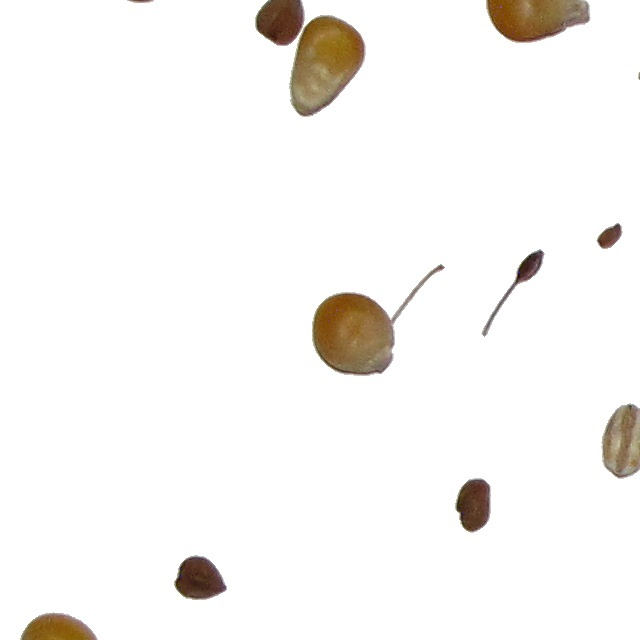buckwheat: (173, 554, 228, 601), (454, 477, 492, 534), (637, 47, 640, 93)
dill: (480, 248, 546, 338)
mais: (288, 14, 367, 118), (311, 284, 396, 373), (18, 611, 102, 640)
other: (600, 402, 640, 480), (595, 222, 624, 250)
